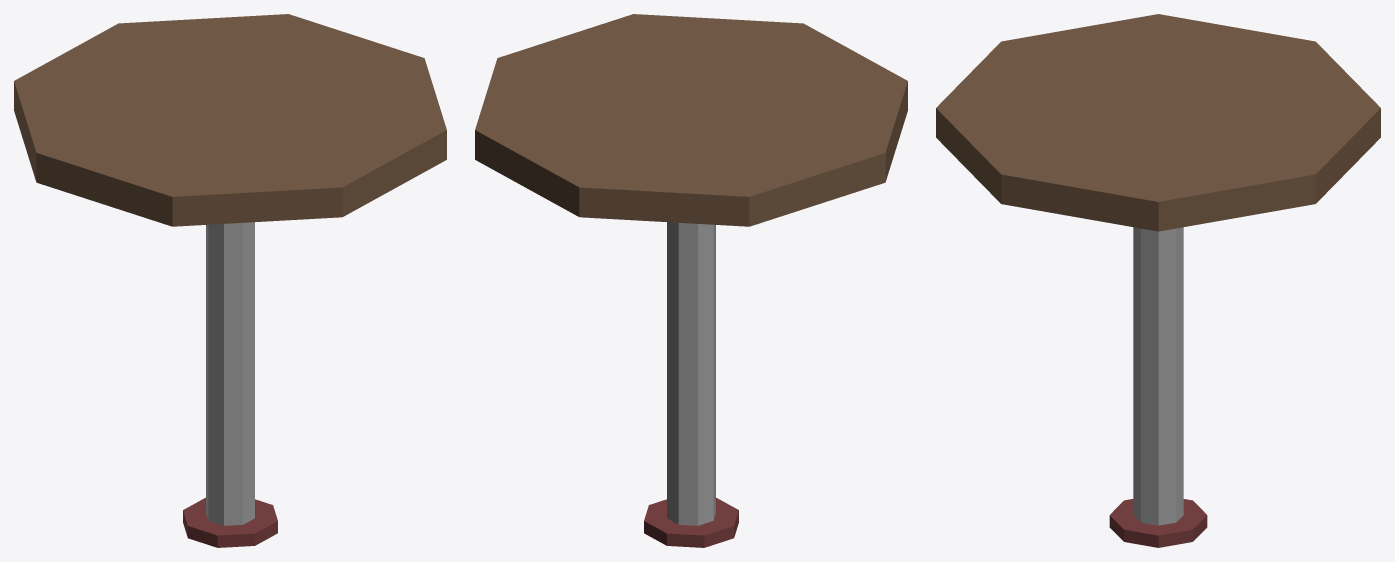
File: RoundTable.fbx
3 renders of one model, left to right at view 1: azimuth 30°, elevation 25°; view 2: azimuth 150°, elevation 25°; view 3: azimuth 270°, elevation 25°, orthographic.
Visible parts, largest first — view 1: polySurface3; view 2: polySurface3; view 3: polySurface3.
Boxes of the visible parts, x1,y1,x2,y2 form: polySurface3: (14,14,446,547); polySurface3: (475,14,907,547); polySurface3: (936,14,1380,547).
Bounding box in the file's own units: 64.67 × 67.26 × 64.67.
